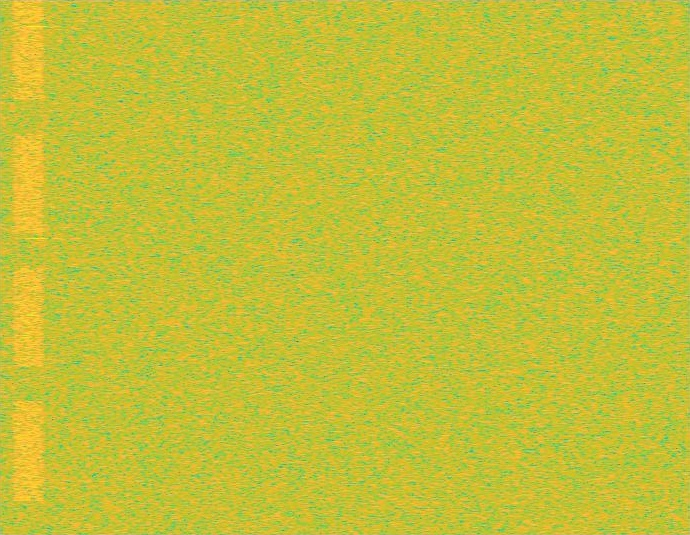5G: (11, 0, 46, 534)
Radar: (30, 0, 44, 534)
